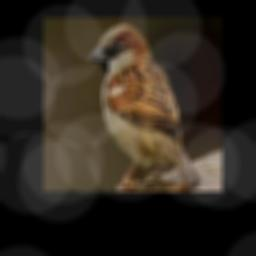Sparrow: (87, 24, 201, 188)
